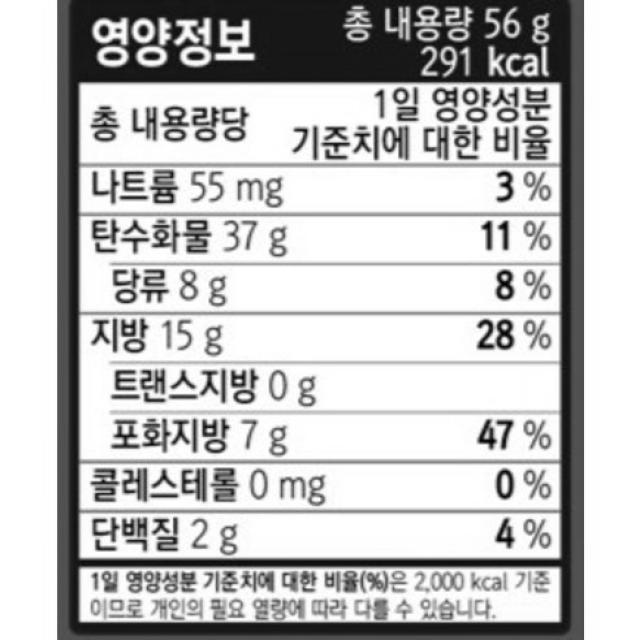Nutrition Label: (65, 0, 580, 640)
